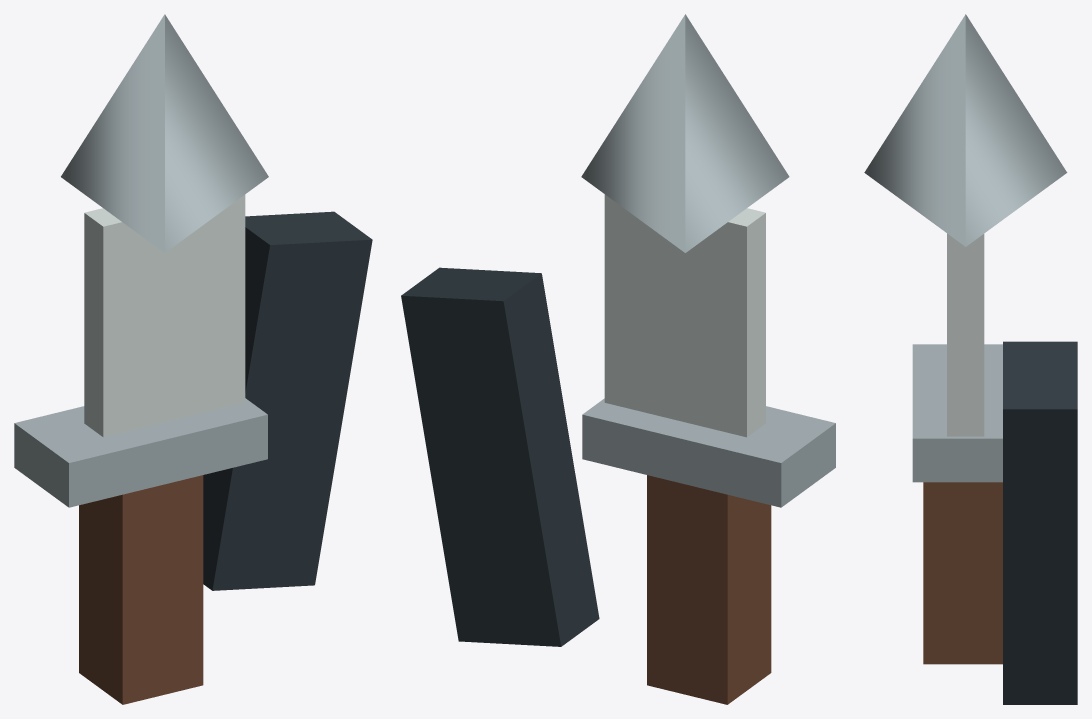
The model's file is fixed-knife-lod2.glb.
3 renders of one model, left to right at view 1: azimuth 30°, elevation 25°; view 2: azimuth 150°, elevation 25°; view 3: azimuth 270°, elevation 25°, orthographic. The views are drawn at different scales.
Parts seen in each view (by area): view 1: piece_whole; view 2: piece_whole; view 3: piece_whole.
Boxes of the visible parts, <box> form: piece_whole: <box>14,14,372,704</box>; piece_whole: <box>401,14,835,704</box>; piece_whole: <box>864,14,1077,704</box>.
Bounding box in the file's own units: 0.3695 × 0.665 × 0.2003.
